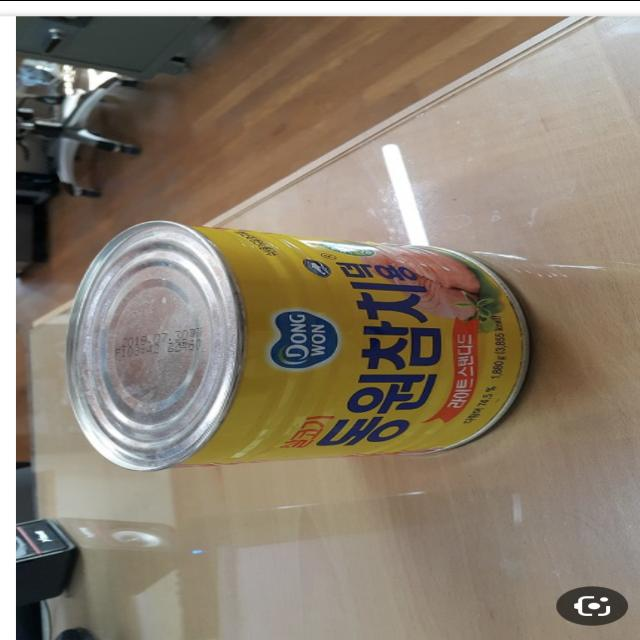can: (37, 210, 554, 470)
